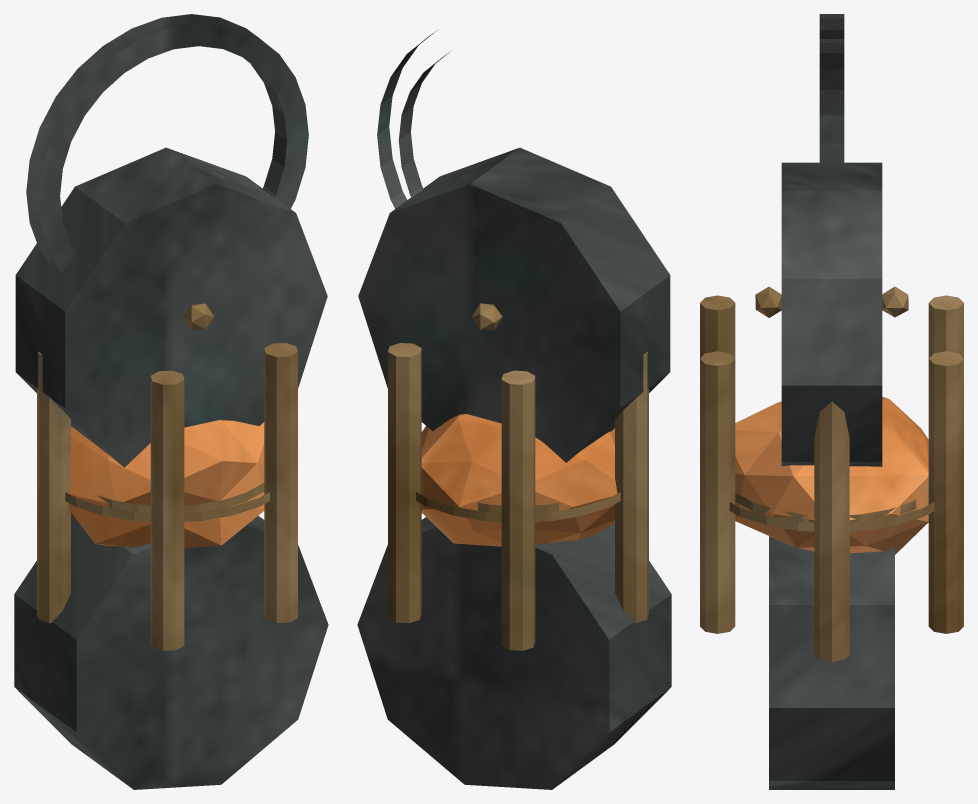
File: 0904_lantern_04.glb
3 renders of one model, left to right at view 1: azimuth 30°, elevation 25°; view 2: azimuth 150°, elevation 25°; view 3: azimuth 270°, elevation 25°, orthographic.
Parts seen in each view (by area): view 1: iron, brass, amber; view 2: iron, brass, amber; view 3: iron, brass, amber.
Part boxes in pixels (x1=…): iron: x1=14, y1=14, x2=328, y2=789; brass: x1=37, y1=303, x2=297, y2=650; amber: x1=68, y1=420, x2=264, y2=548; iron: x1=357, y1=30, x2=671, y2=789; brass: x1=388, y1=303, x2=648, y2=650; amber: x1=421, y1=414, x2=617, y2=546; iron: x1=769, y1=14, x2=894, y2=789; brass: x1=700, y1=286, x2=963, y2=661; amber: x1=735, y1=396, x2=928, y2=554.
Bounding box in the file's own units: 0.5 × 1.32 × 0.4197.
Materials: 3 (3 with a texture image).
